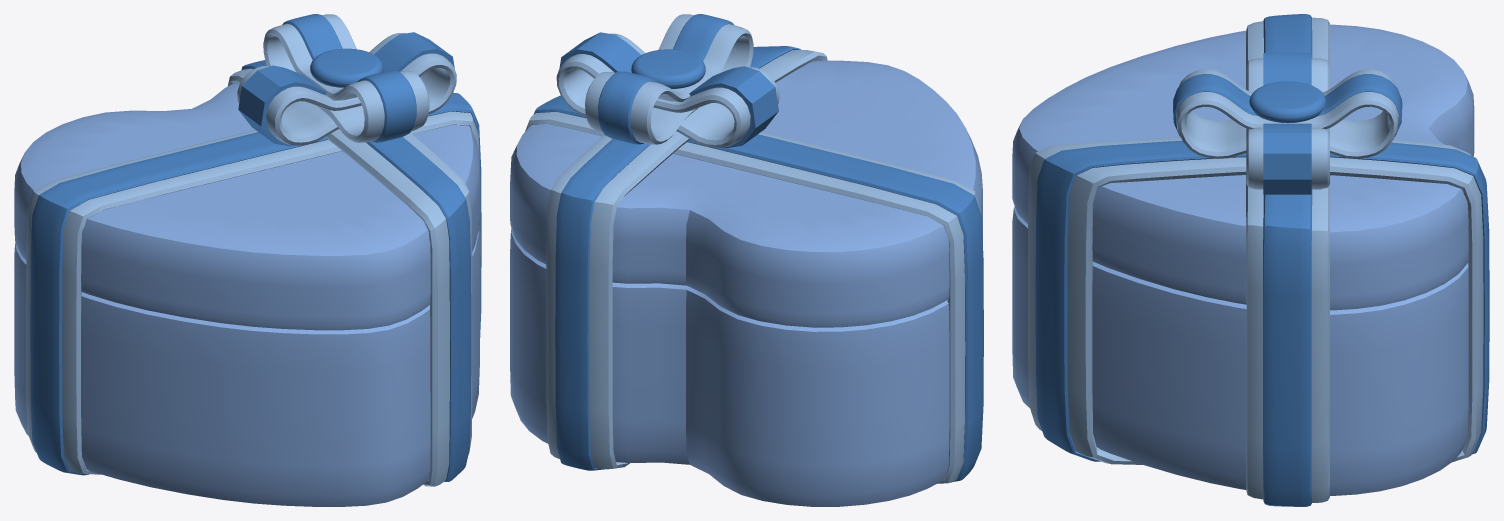
The model's file is present2.glb.
3 renders of one model, left to right at view 1: azimuth 30°, elevation 25°; view 2: azimuth 150°, elevation 25°; view 3: azimuth 270°, elevation 25°, orthographic. The views are drawn at different scales.
Visible parts, largest first — view 1: Box, Box.001, Ribbon.003, Ribbon.002, Ribbon.001, Ribbon.004, Ribbon.007, Ribbon.005, Ribbon, Ribbon.008, Ribbon.006; view 2: Box, Box.001, Ribbon.001, Ribbon.004, Ribbon.003, Ribbon.002, Ribbon.007, Ribbon.005, Ribbon, Ribbon.008, Ribbon.006; view 3: Box.001, Box, Ribbon.001, Ribbon.003, Ribbon.004, Ribbon.002, Ribbon.007, Ribbon, Ribbon.005, Ribbon.008, Ribbon.006.
Boxes of the visible parts, box(x1,y1,x2,y2) form: Box: box(14, 226, 479, 506); Box.001: box(14, 83, 479, 330); Ribbon.003: box(30, 92, 481, 475); Ribbon.002: box(26, 111, 480, 474); Ribbon.001: box(227, 68, 472, 486); Ribbon.004: box(241, 60, 471, 481); Ribbon.007: box(263, 14, 429, 142); Ribbon.005: box(237, 33, 456, 145); Ribbon: box(238, 32, 454, 146); Ribbon.008: box(282, 14, 416, 142); Ribbon.006: box(310, 48, 383, 87); Box: box(510, 228, 949, 506); Box.001: box(510, 60, 982, 327); Ribbon.001: box(546, 50, 827, 469); Ribbon.004: box(555, 46, 800, 470); Ribbon.003: box(533, 95, 983, 481); Ribbon.002: box(525, 111, 981, 483); Ribbon.007: box(585, 14, 753, 144); Ribbon.005: box(556, 33, 779, 147); Ribbon: box(559, 32, 778, 148); Ribbon.008: box(597, 14, 733, 144); Ribbon.006: box(631, 49, 705, 88); Box.001: box(1012, 24, 1474, 310); Box: box(1012, 206, 1468, 495); Ribbon.001: box(1028, 137, 1483, 464); Ribbon.003: box(1263, 14, 1312, 506); Ribbon.004: box(1035, 140, 1489, 461); Ribbon.002: box(1246, 17, 1330, 502); Ribbon.007: box(1176, 69, 1398, 158); Ribbon: box(1263, 53, 1311, 194); Ribbon.005: box(1246, 58, 1329, 189); Ribbon.008: box(1173, 74, 1402, 137); Ribbon.006: box(1249, 81, 1326, 123).
Size of the model in its own units: 3.15 by 2.5 by 2.84.
